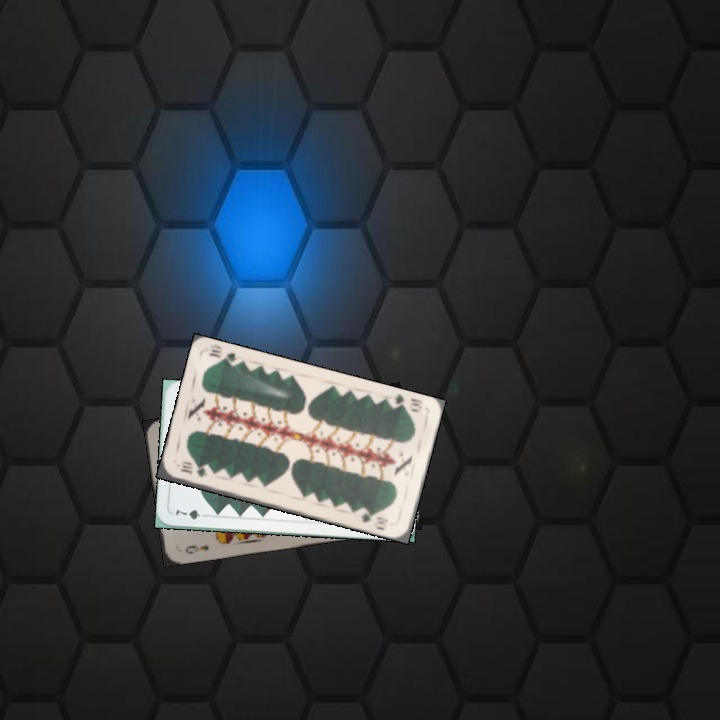E9: (181, 541, 211, 557)
G10: (386, 391, 425, 415), (175, 459, 210, 480)
G7: (172, 506, 211, 522)
